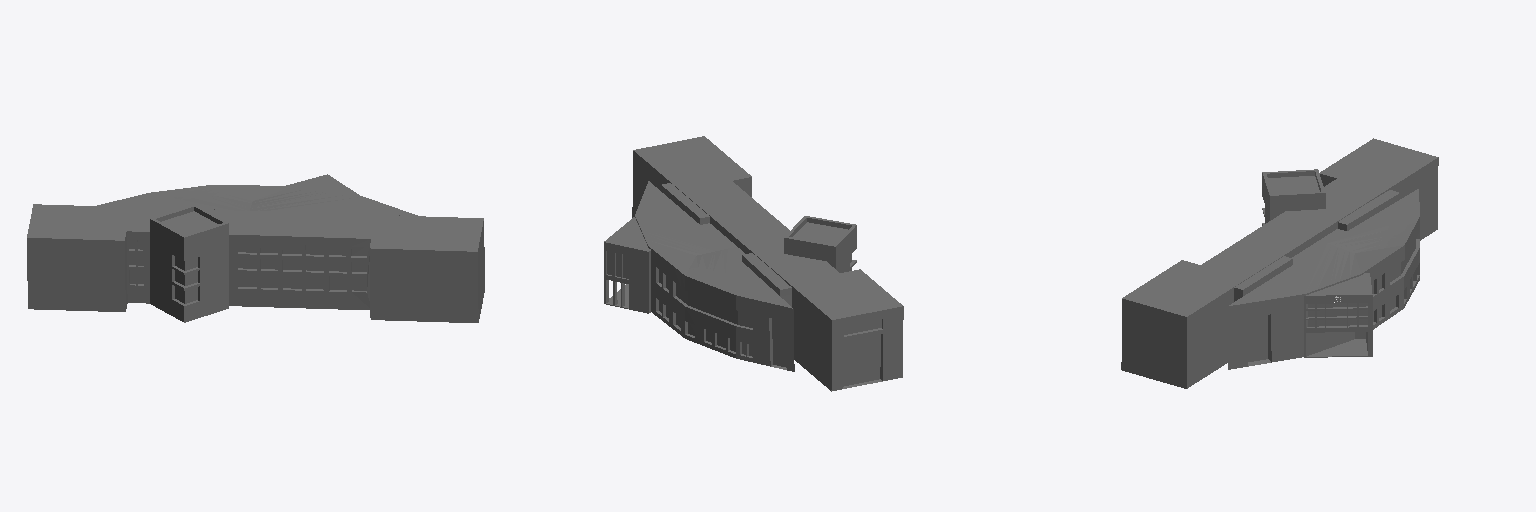
File: muisque.obj
3 renders of one model, left to right at view 1: azimuth 30°, elevation 25°; view 2: azimuth 150°, elevation 25°; view 3: azimuth 270°, elevation 25°, orthographic.
Parts seen in each view (by area): view 1: g pCube1_pCube1, g pCube2_pCube2, g pCube5_pCube5, g pCube6_pCube6; view 2: g pCube1_pCube1, g pCube5_pCube5, g pCube6_pCube6, g pCube2_pCube2; view 3: g pCube1_pCube1, g pCube5_pCube5, g pCube6_pCube6, g pCube2_pCube2, g pPlane1_pPlane1.
Boxes of the visible parts, <box> form: g pCube1_pCube1: <box>27,204,484,322</box>; g pCube2_pCube2: <box>150,204,228,322</box>; g pCube5_pCube5: <box>97,185,417,215</box>; g pCube6_pCube6: <box>286,174,359,195</box>; g pCube1_pCube1: <box>632,136,903,391</box>; g pCube5_pCube5: <box>635,181,794,371</box>; g pCube6_pCube6: <box>604,217,650,313</box>; g pCube2_pCube2: <box>784,216,856,272</box>; g pCube1_pCube1: <box>1121,138,1438,388</box>; g pCube5_pCube5: <box>1228,189,1419,369</box>; g pCube6_pCube6: <box>1304,273,1372,357</box>; g pCube2_pCube2: <box>1262,169,1325,225</box>; g pPlane1_pPlane1: <box>1308,303,1367,326</box>.
Size of the model in its own units: 23.15 by 5.38 by 17.43.